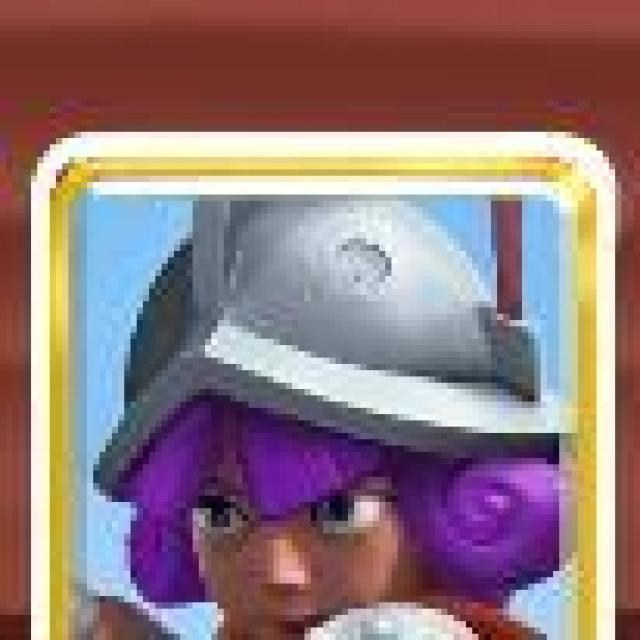Musketeer: (29, 126, 623, 640)
